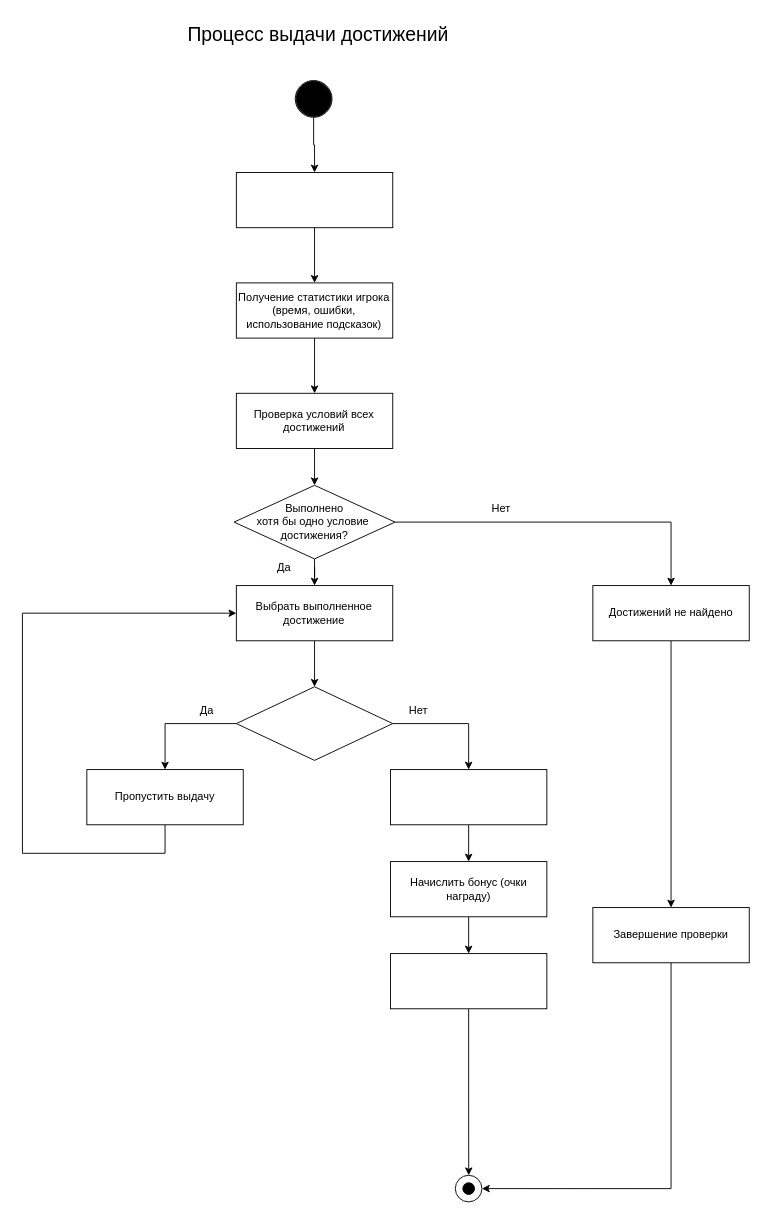
Image size: 765x1218. Some labels were removed from this diagram. The box of each missing label's shape, as (x1, y1, x2, y2) in pixels:
Добавить достижение в профиль игрока: (390, 769, 547, 825)
Достижение уже получено ранее?: (235, 686, 393, 760)
Завершение уровня: (235, 172, 393, 228)
Показать уведомление о дсотижении: (390, 953, 547, 1009)
